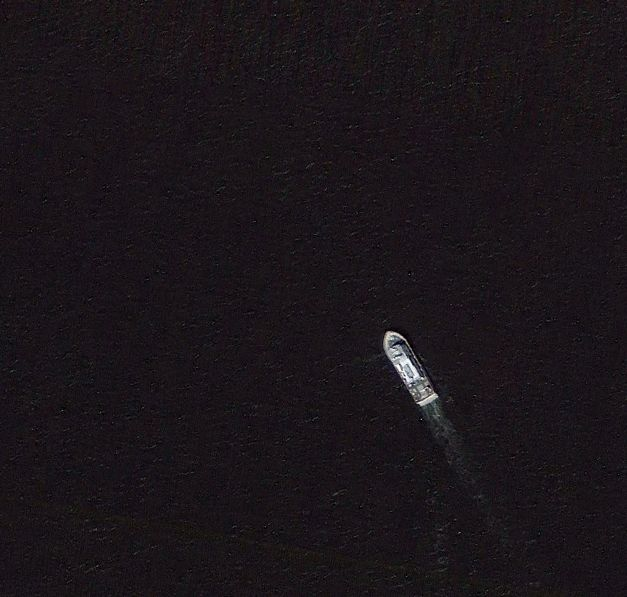boat: (380, 328, 440, 409)
